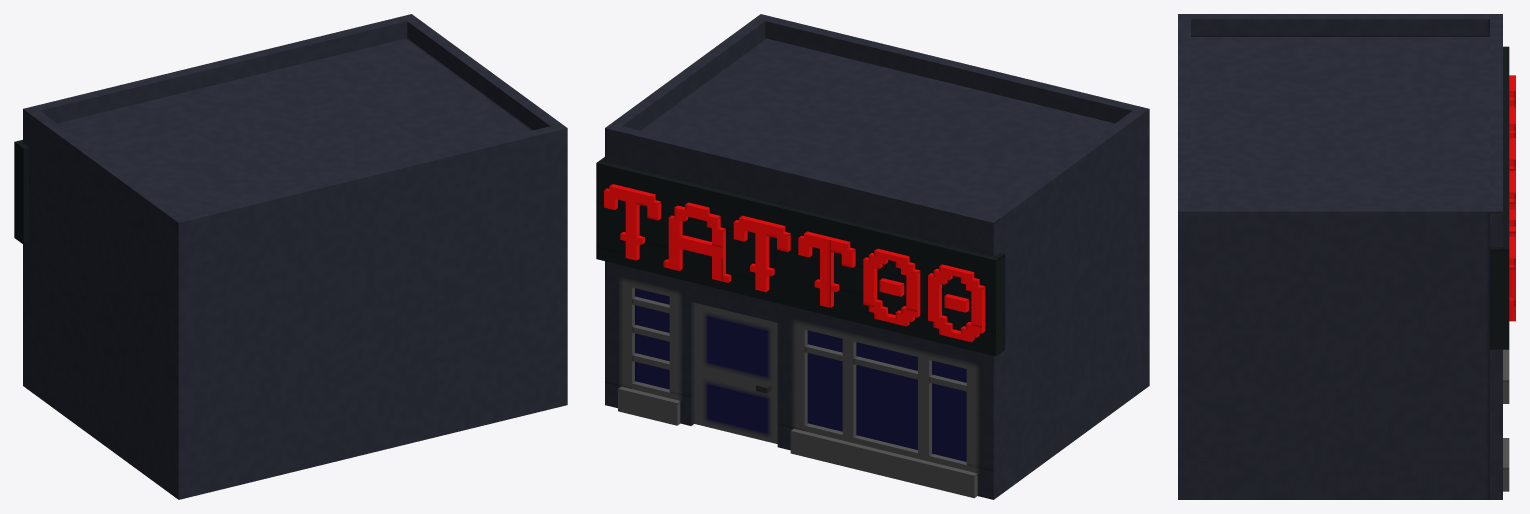
File: tatuarze.dae
3 renders of one model, left to right at view 1: azimuth 30°, elevation 25°; view 2: azimuth 150°, elevation 25°; view 3: azimuth 270°, elevation 25°, orthographic. The views are drawn at different scales.
Visible parts, largest first — view 1: Content; view 2: Content; view 3: Content.
Boxes of the visible parts, <box> form: Content: <box>14,14,567,499</box>; Content: <box>596,14,1149,499</box>; Content: <box>1178,14,1515,499</box>.
Size of the model in its own units: 74 by 49 by 52.
1 material, 1 textured.
